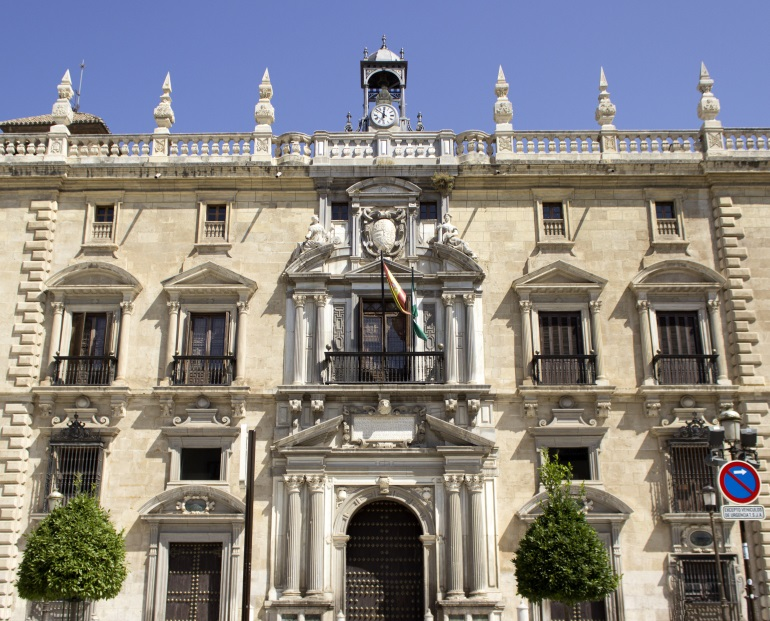arco-medio-punto: (336, 493, 435, 560)
fronton: (160, 258, 264, 298), (509, 256, 612, 296), (344, 255, 426, 285)
fronton-curvo: (136, 481, 248, 528), (513, 484, 636, 526), (625, 256, 733, 293), (46, 261, 147, 298), (346, 176, 428, 200)
fronton-partido: (270, 412, 501, 460), (282, 239, 492, 283)
vano-adintelado: (632, 297, 733, 386), (146, 528, 236, 621), (42, 299, 136, 386), (159, 299, 250, 387), (517, 300, 610, 383)
